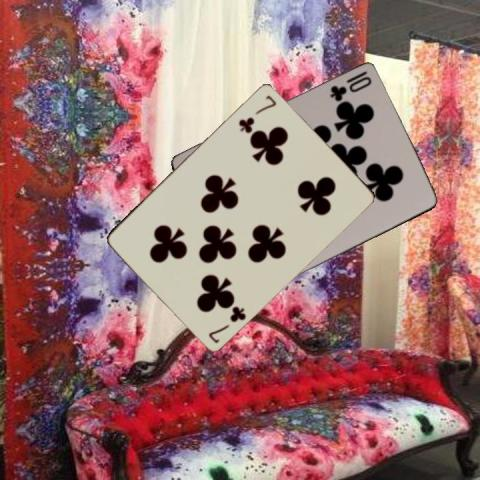10c: (326, 69, 373, 103)
7c: (205, 302, 248, 345), (235, 92, 278, 134)
